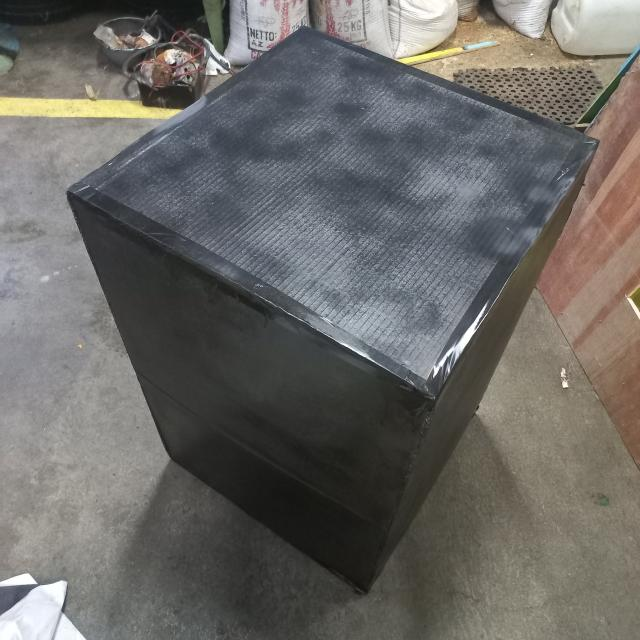obstacle: (68, 23, 602, 597)
